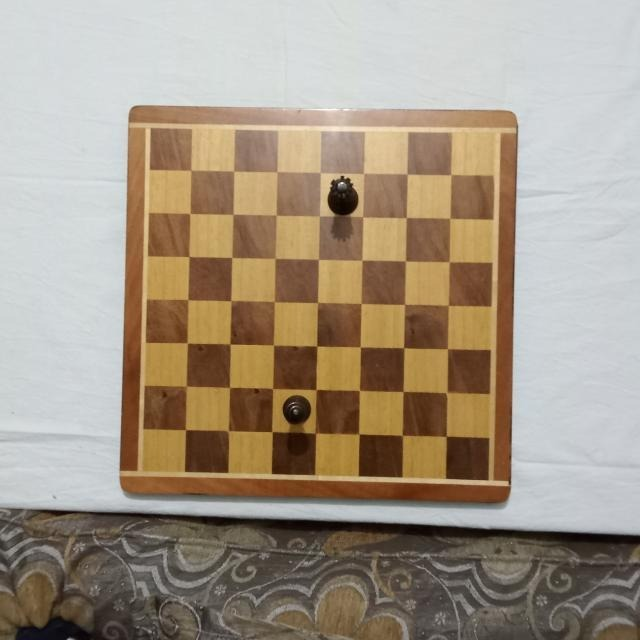black-king: (282, 394, 314, 425)
black-queen: (326, 175, 359, 217)
